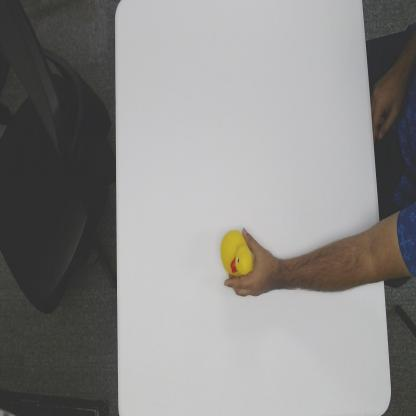Arm: (279, 222, 383, 297)
Duck: (220, 227, 262, 281)
Hand: (224, 227, 275, 299)
